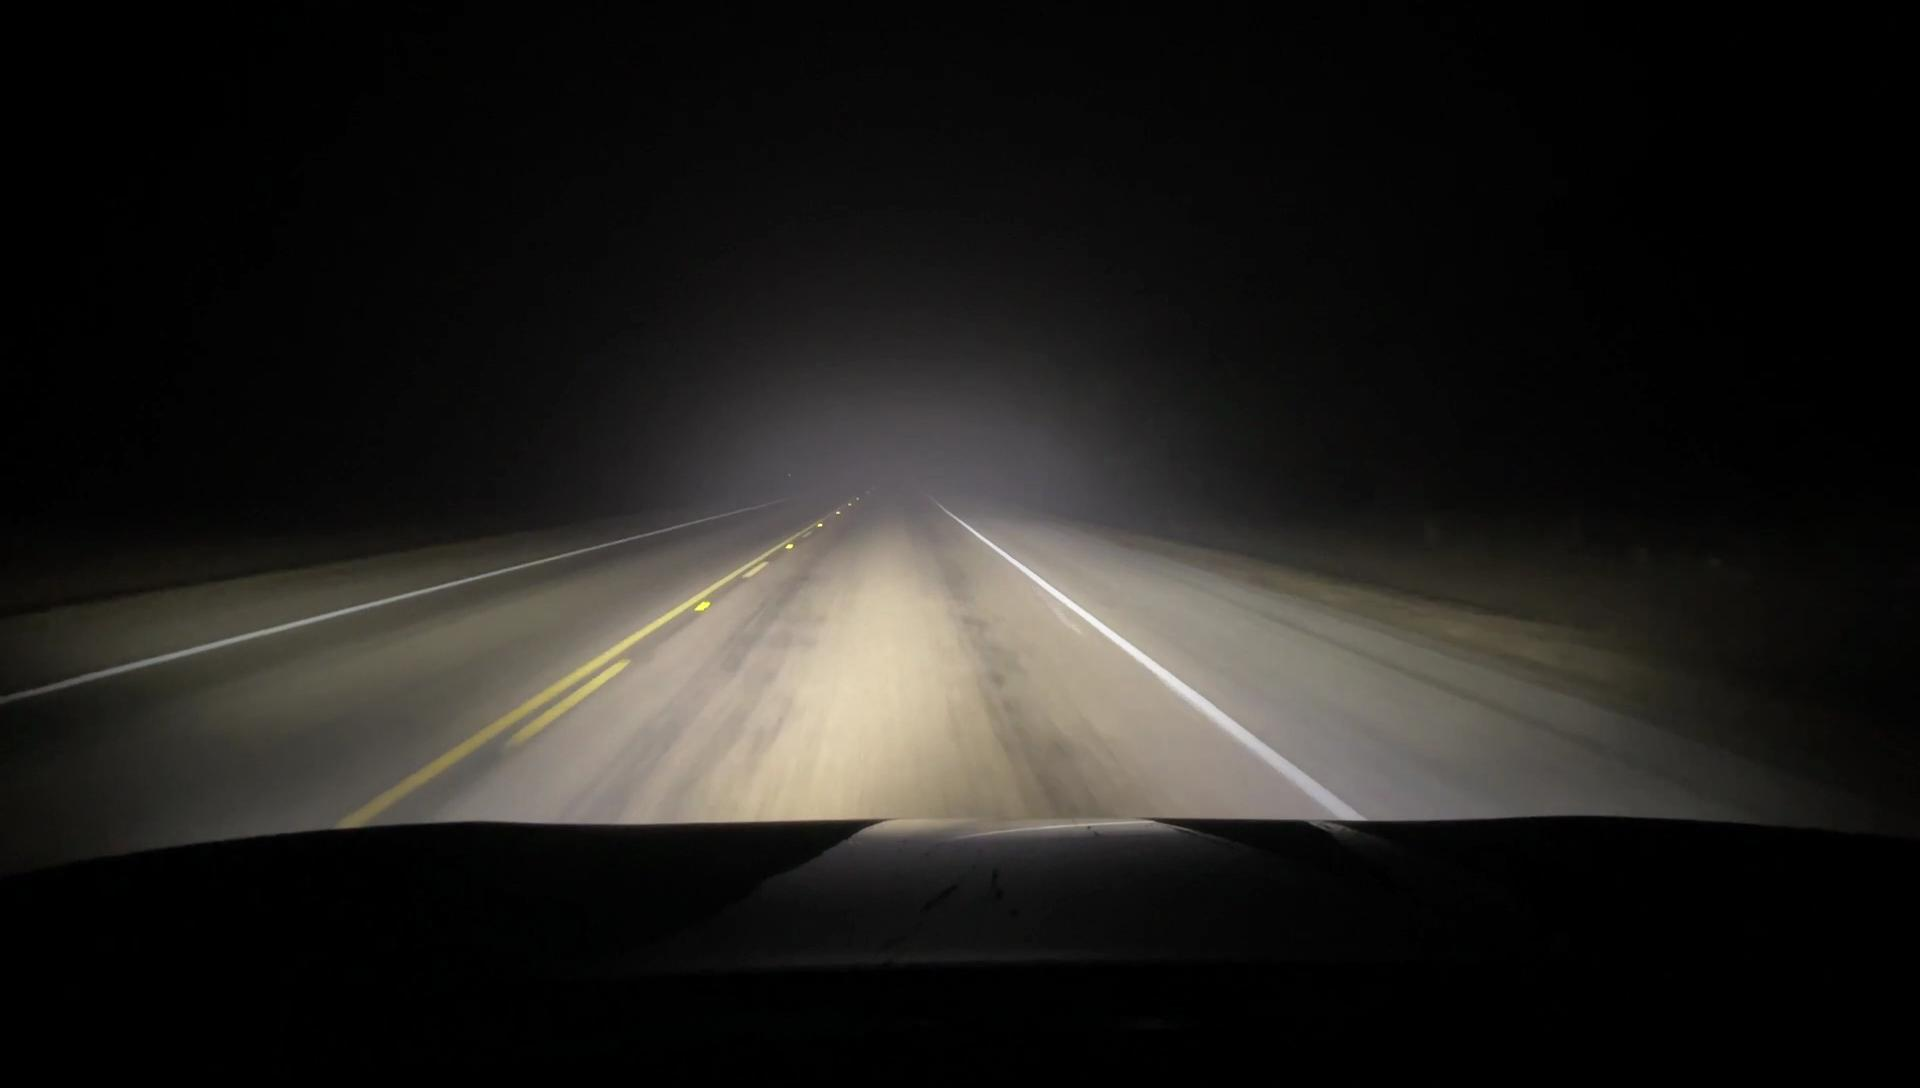road-lanes: (443, 495, 1327, 808)
